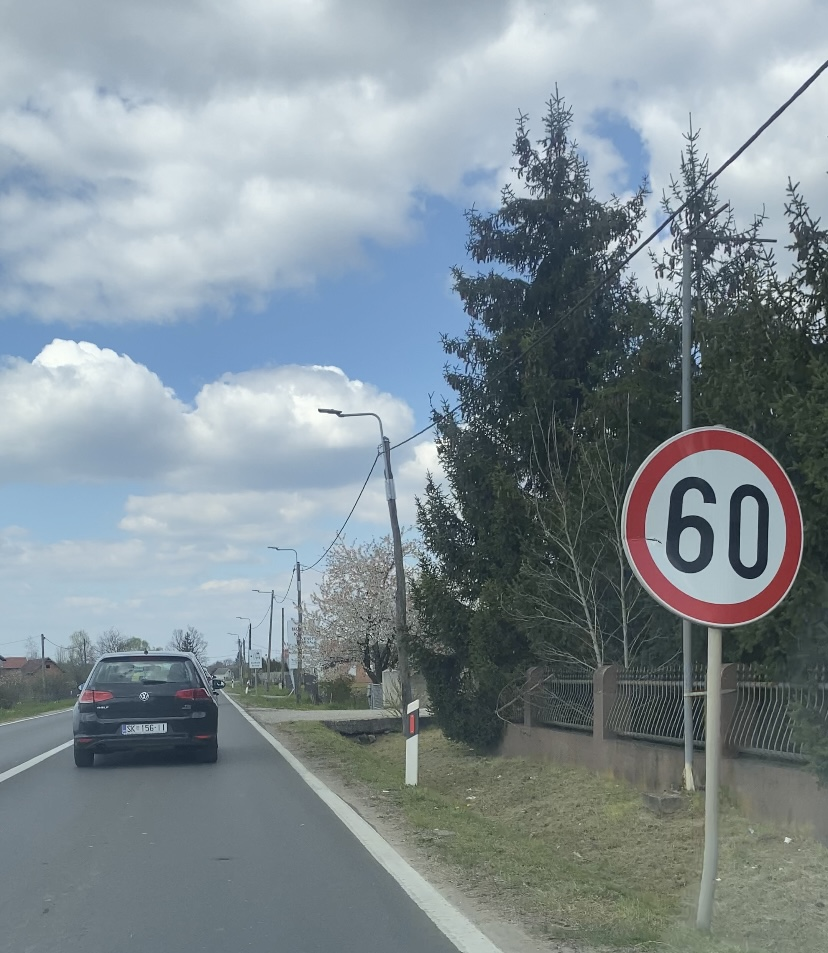Ograničenje brzine 60: (620, 425, 805, 627)
